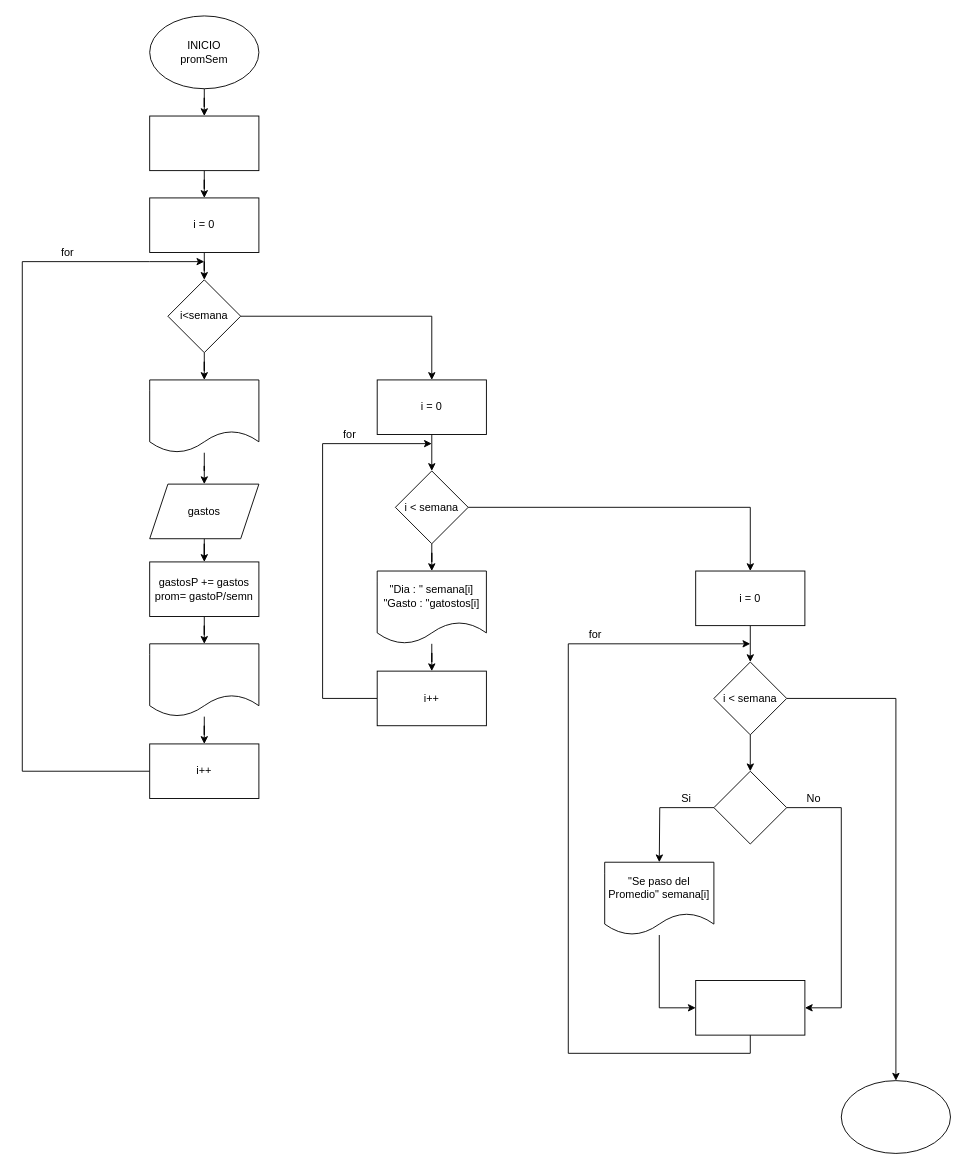
The diagram is 966 pixels wide and 1169 high, and some of its shapes have lost their labels. The shapes that lost their labels are listed below. From the top down, each one's centre as x and y in pixels, then its label:
pixel 204 143: string semana[] float gastos[] float gastoP float prom
pixel 204 416: "Ingrese Gasto del Dia"
pixel 204 680: "Gasto Parcial" "Promedio"
pixel 750 807: gastos[i] > prom
pixel 750 1007: i ++
pixel 895 1116: FIN promSem
